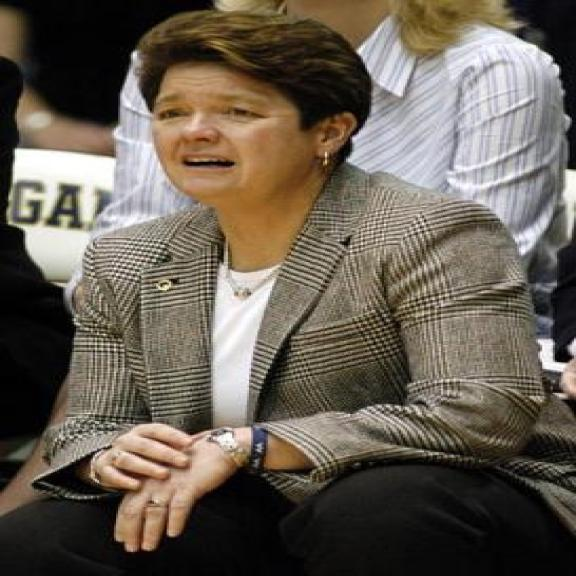face: (153, 62, 361, 201)
